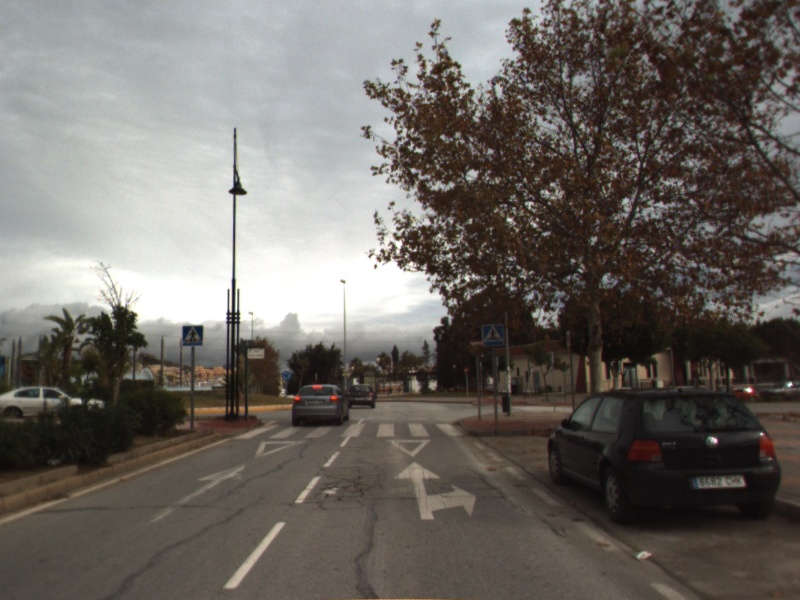STRAIGHT: (145, 461, 248, 525)
STRAIGHT_RIGHT: (392, 460, 478, 522)
